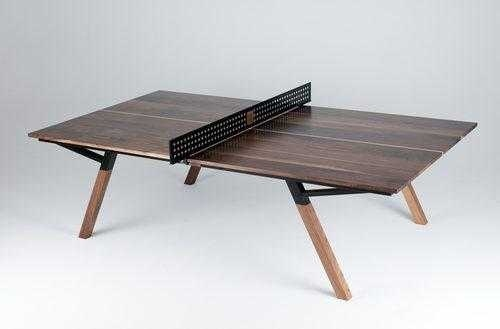obstacle: (29, 83, 476, 299)
